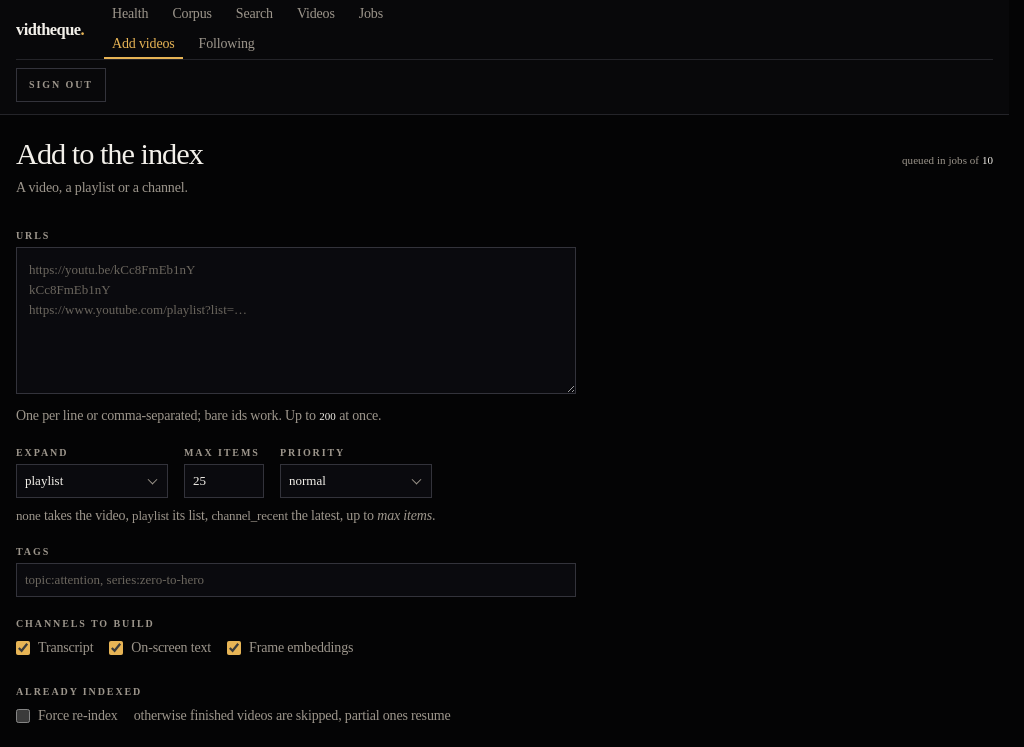
Scenario: the index form › the receipt › names the job it queued and the queue to watch it in
The image size is (1024, 747).
Step 1. Type "https://youtu.be/solo0000002" into the text box labelled "URLs" → (296, 321), box [16,247,576,394]
(page scrolled)
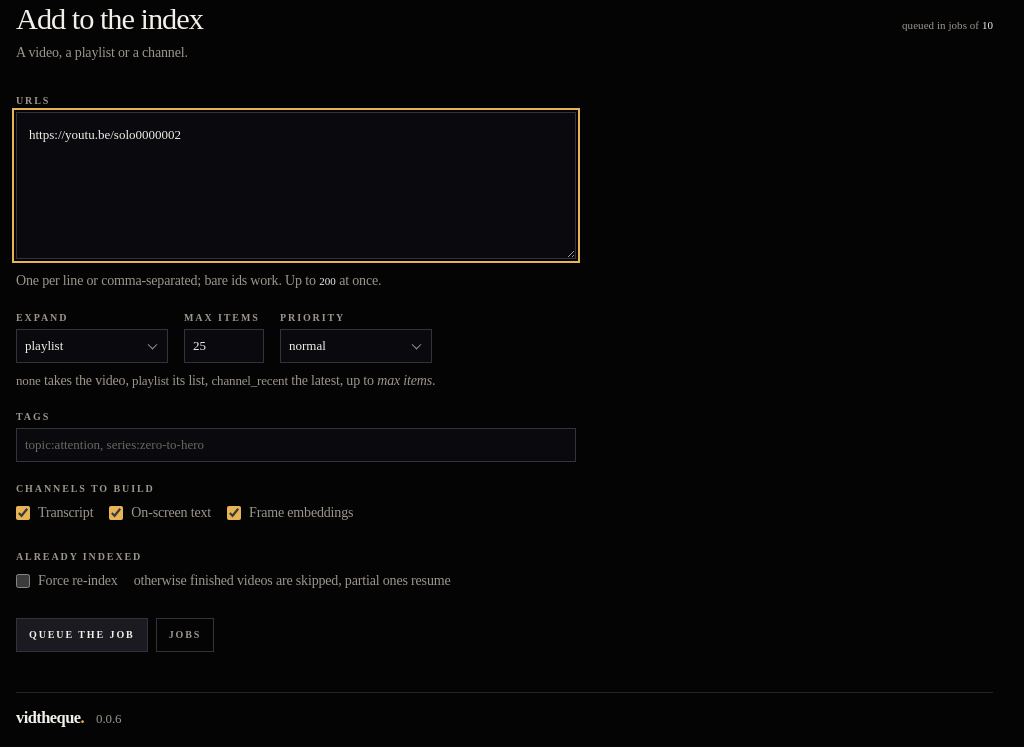
Step 2. Click the button "Queue the job" → (82, 635), box [16,618,148,652]
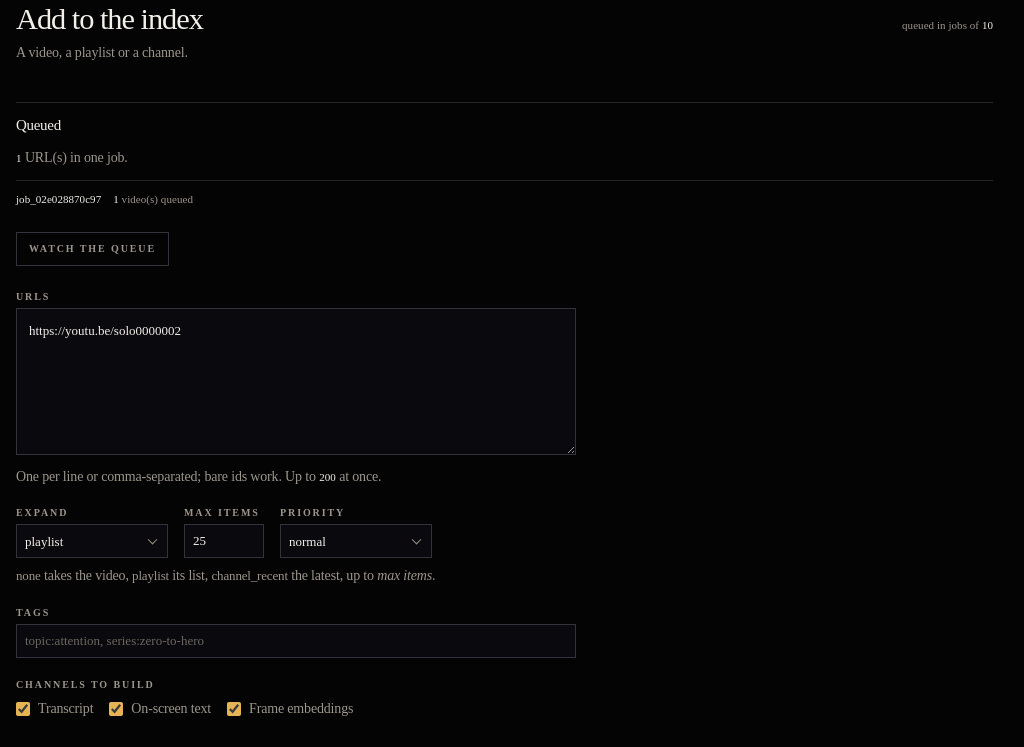
Now the message shows "1 URL(s) in one job.", box [16,102,993,266]
Now the list item shows "1 video(s) queued", box [16,180,993,216]
